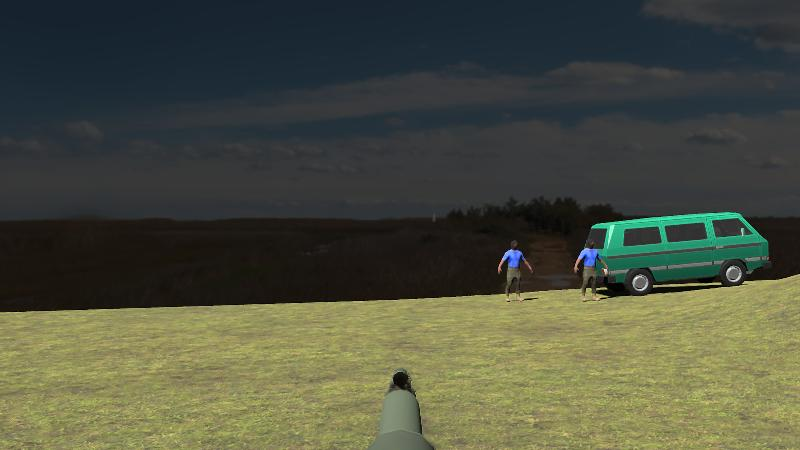Human: (499, 238, 533, 303), (575, 237, 607, 303)
car: (586, 211, 771, 297)
